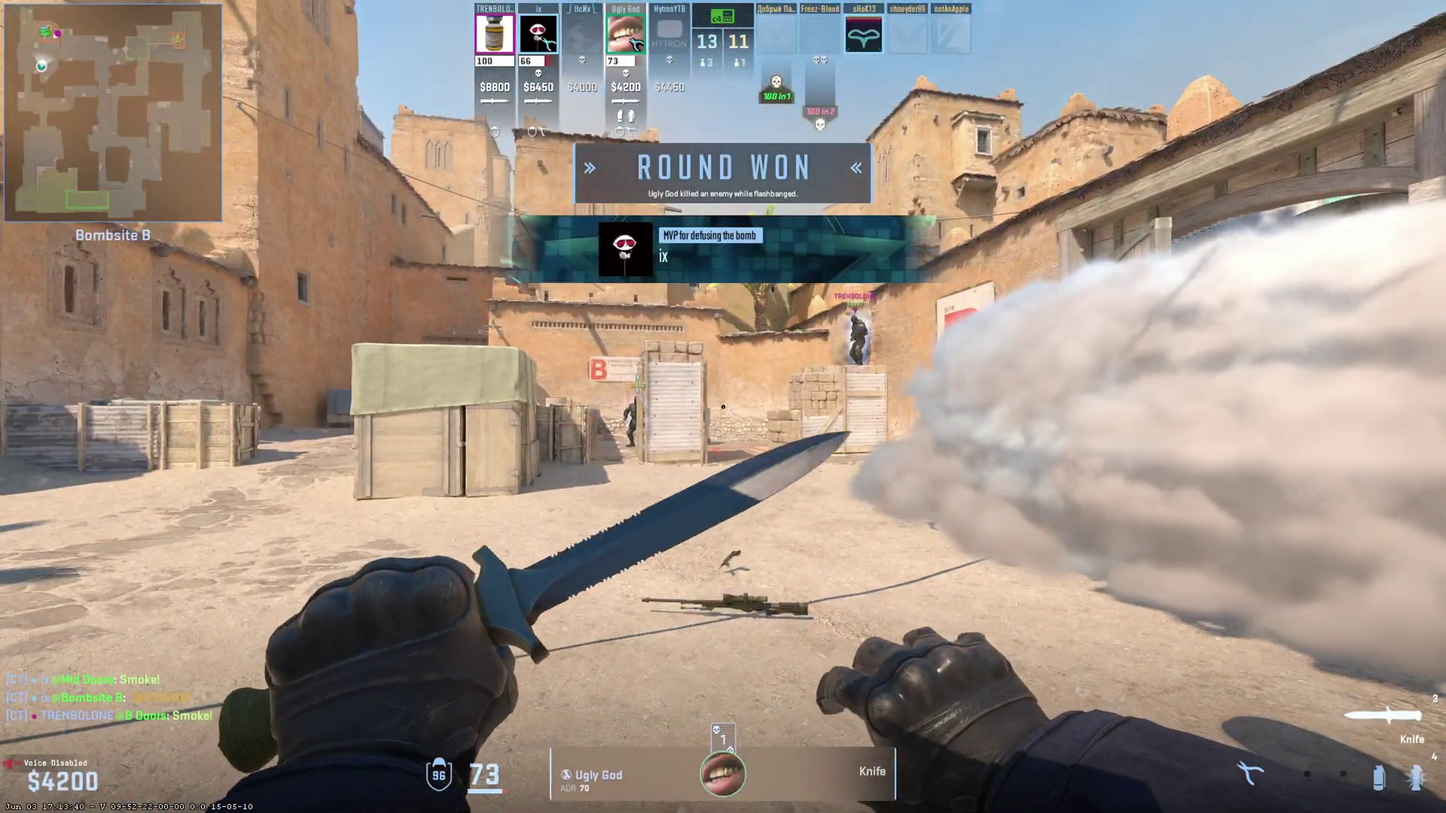CT: (850, 315, 866, 365), (625, 396, 637, 448)
